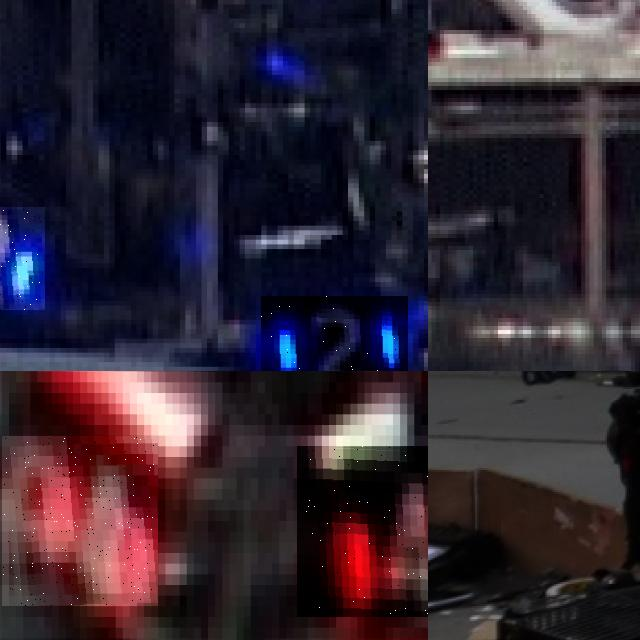B2: (261, 296, 407, 371), (0, 206, 44, 310)
R4: (2, 436, 158, 606), (297, 446, 428, 616)
